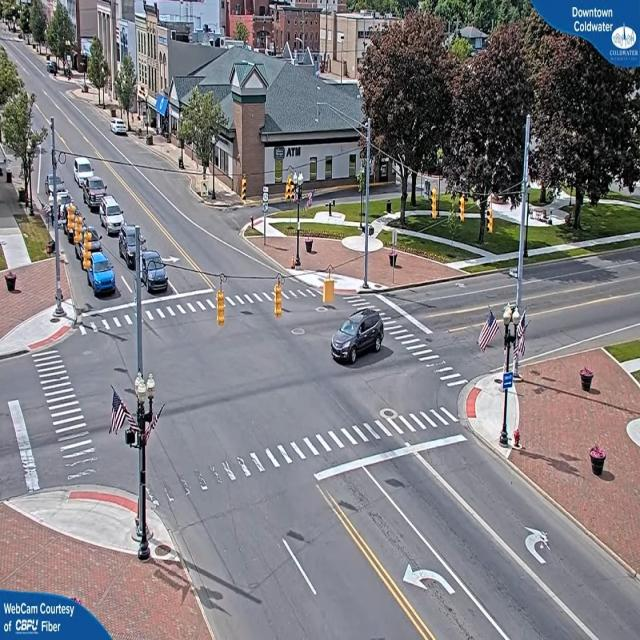car: (331, 310, 384, 364), (84, 249, 118, 298), (141, 248, 170, 292), (100, 197, 126, 239), (121, 226, 140, 265), (112, 122, 130, 138)
